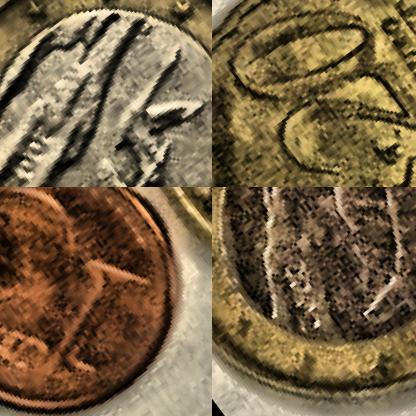coin: (0, 187, 211, 415), (212, 187, 415, 415), (0, 0, 211, 186), (212, 0, 415, 186)
